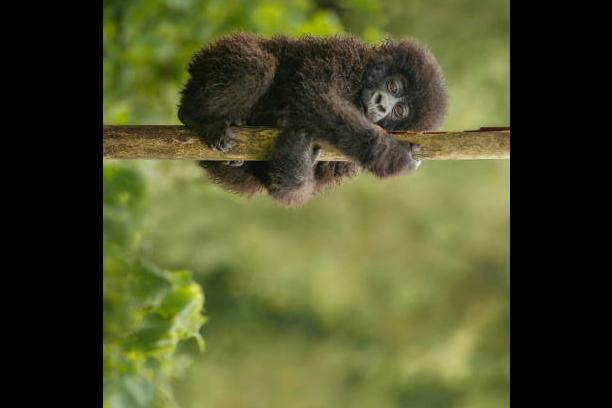goriile_montagne: (167, 10, 458, 228)
